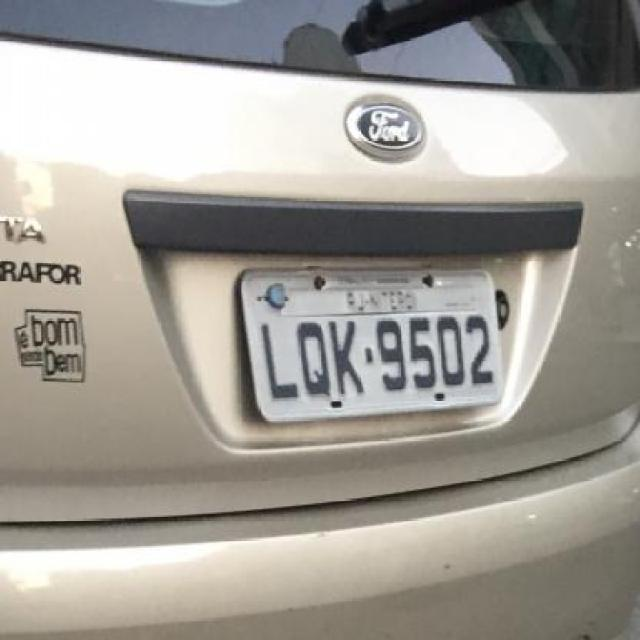old_plate: (230, 258, 508, 431)
